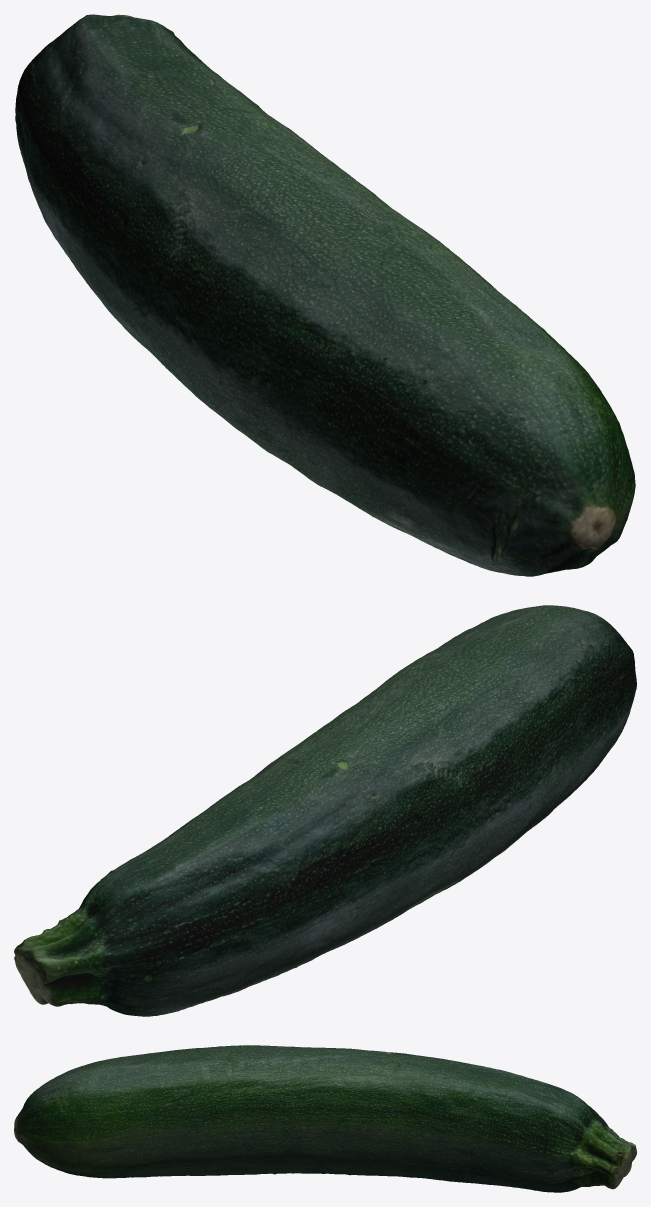
The model's file is VegetableCucumber.fbx.
The picture shows the model from 3 angles, top to bottom: view 1: azimuth 30°, elevation 25°; view 2: azimuth 150°, elevation 25°; view 3: azimuth 270°, elevation 25°; orthographic projection. The views are drawn at different scales.
Visible parts, largest first — view 1: zucchini; view 2: zucchini; view 3: zucchini.
Boxes of the visible parts, x1,y1,x2,y2 form: zucchini: (15,14,635,576); zucchini: (14,605,636,1016); zucchini: (14,1045,636,1192).
Bounding box in the file's own units: 7.38 × 5.34 × 25.5.
